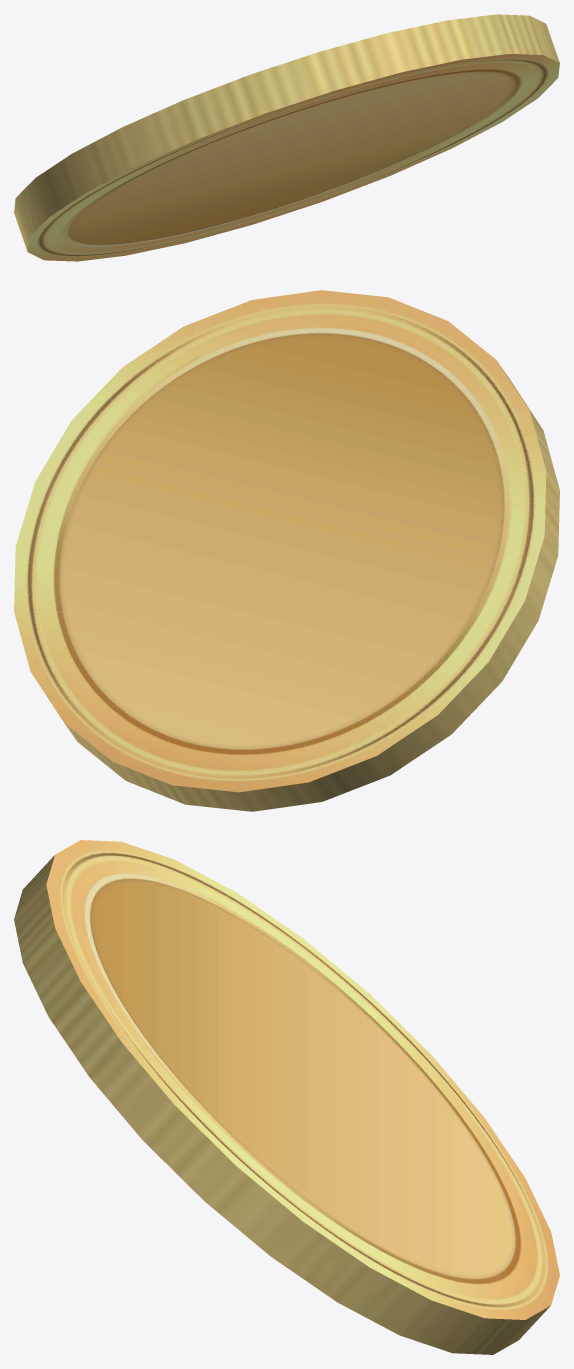
The model's file is MatchView.glb.
3 renders of one model, top to bottom at view 1: azimuth 30°, elevation 25°; view 2: azimuth 150°, elevation 25°; view 3: azimuth 270°, elevation 25°, orthographic. The views are drawn at different scales.
Parts seen in each view (by area): view 1: HomeOrVisitCoin; view 2: HomeOrVisitCoin; view 3: HomeOrVisitCoin.
Boxes of the visible parts, box(x1,y1,x2,y2) form: HomeOrVisitCoin: box(14, 14, 559, 261); HomeOrVisitCoin: box(14, 290, 559, 811); HomeOrVisitCoin: box(14, 840, 559, 1354).
Size of the model in its own units: 240 by 168 by 195.
1 material, 1 textured.
